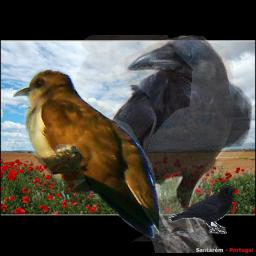Crow: (74, 35, 252, 253), (168, 185, 235, 234)
Cuckoo: (13, 69, 159, 241)
